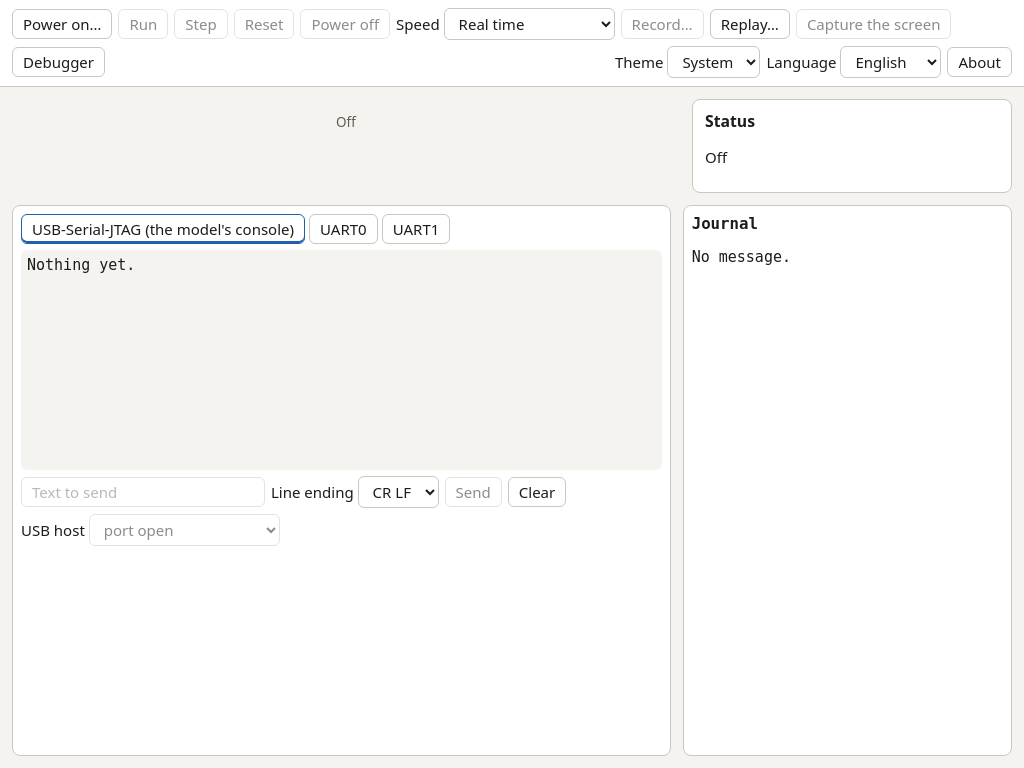
Test case: App › names a refused start in its own words and keeps the host's text as the detail
The image size is (1024, 768).
Click the button "Power on…" at (62, 24), box [12,9,112,39]
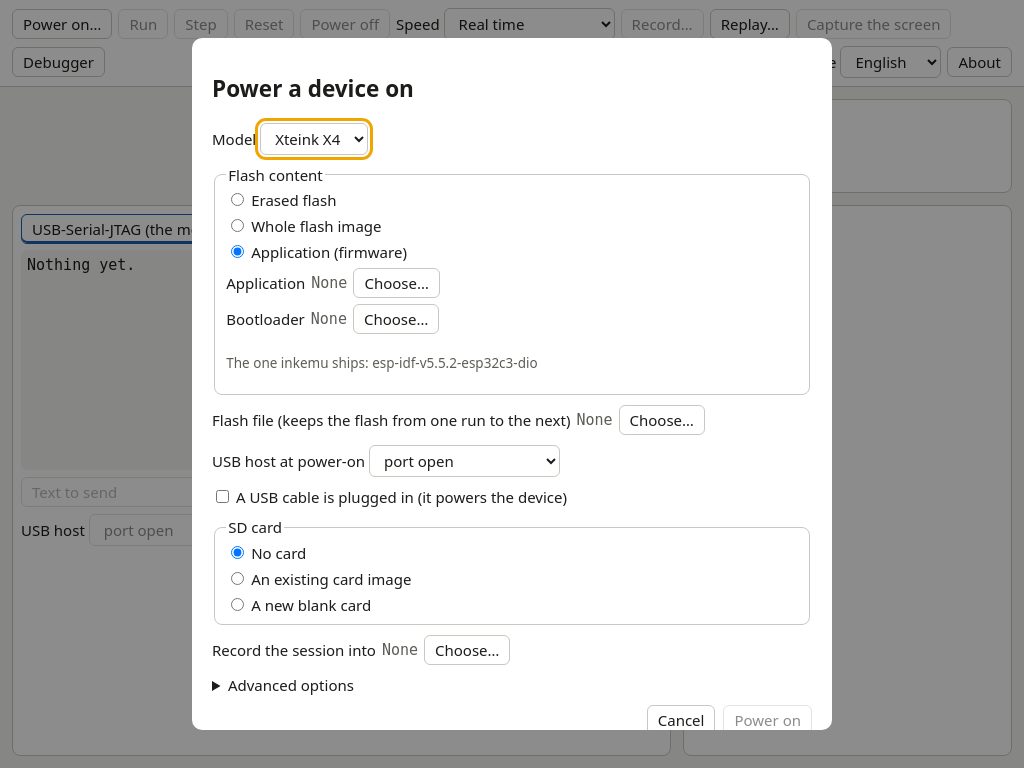
Click the 1st button "Choose…" at (397, 283), box [353,268,440,298]
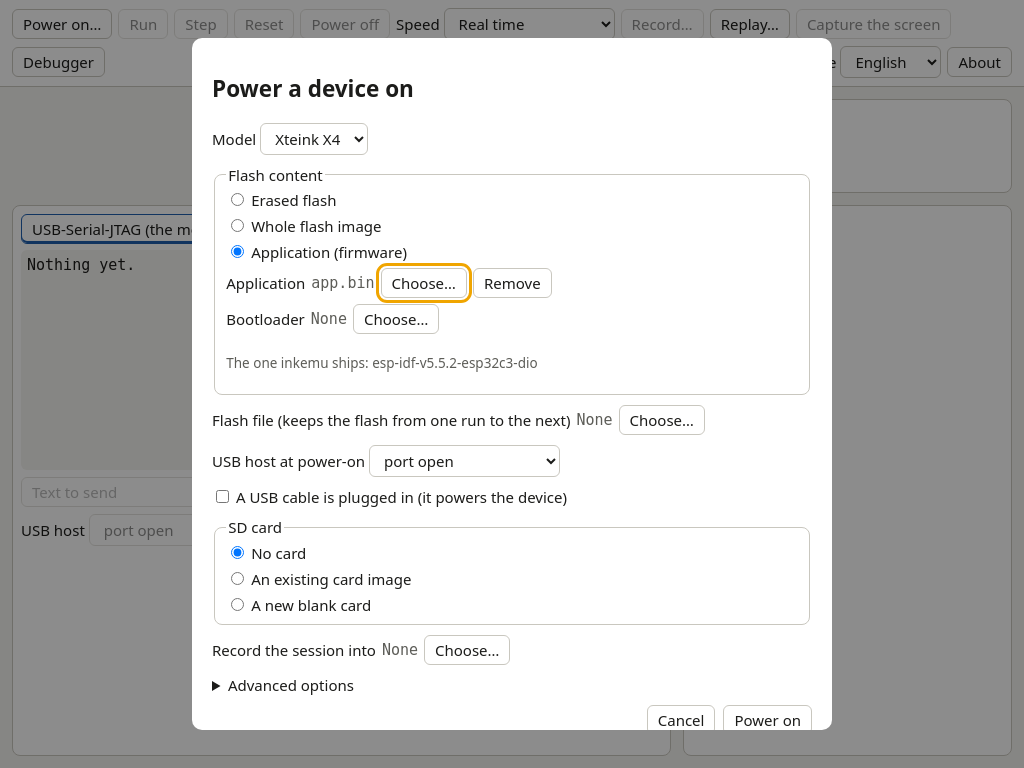
Click the button "Power on" at (768, 720), box [724,705,812,735]
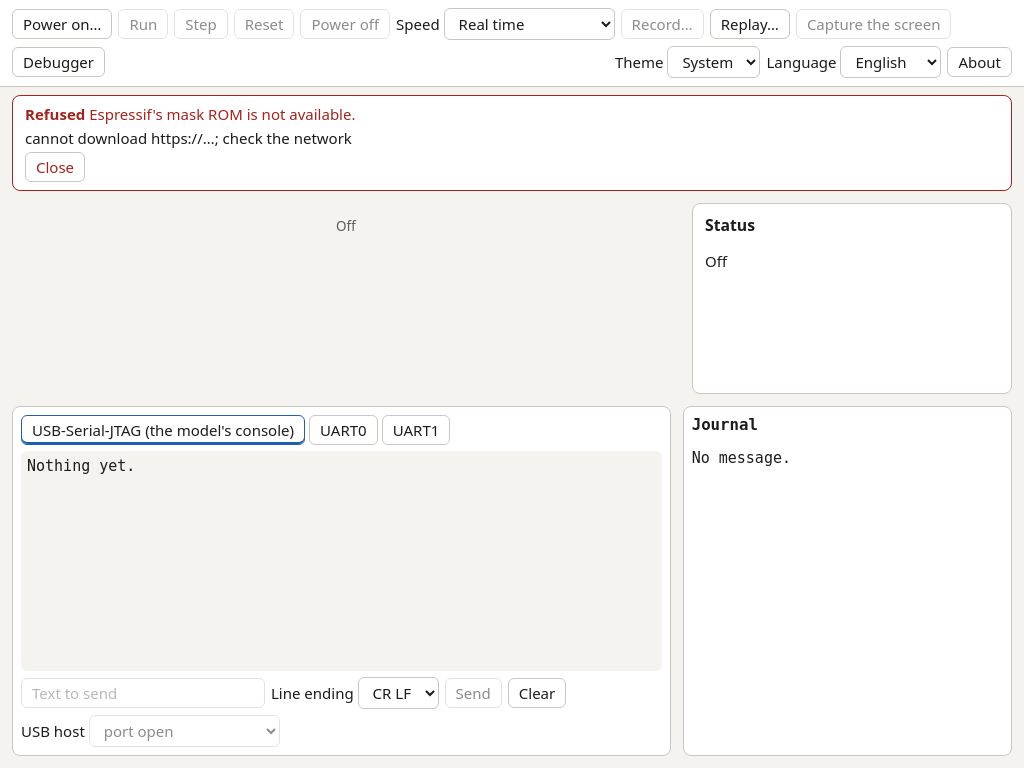
Result: the message shows "Espressif's mask ROM is not available." at [89,104,356,124]
Result: the message shows "check the network" at [25,128,352,148]
Click the button "Close" at (55, 167), box [25,152,85,182]
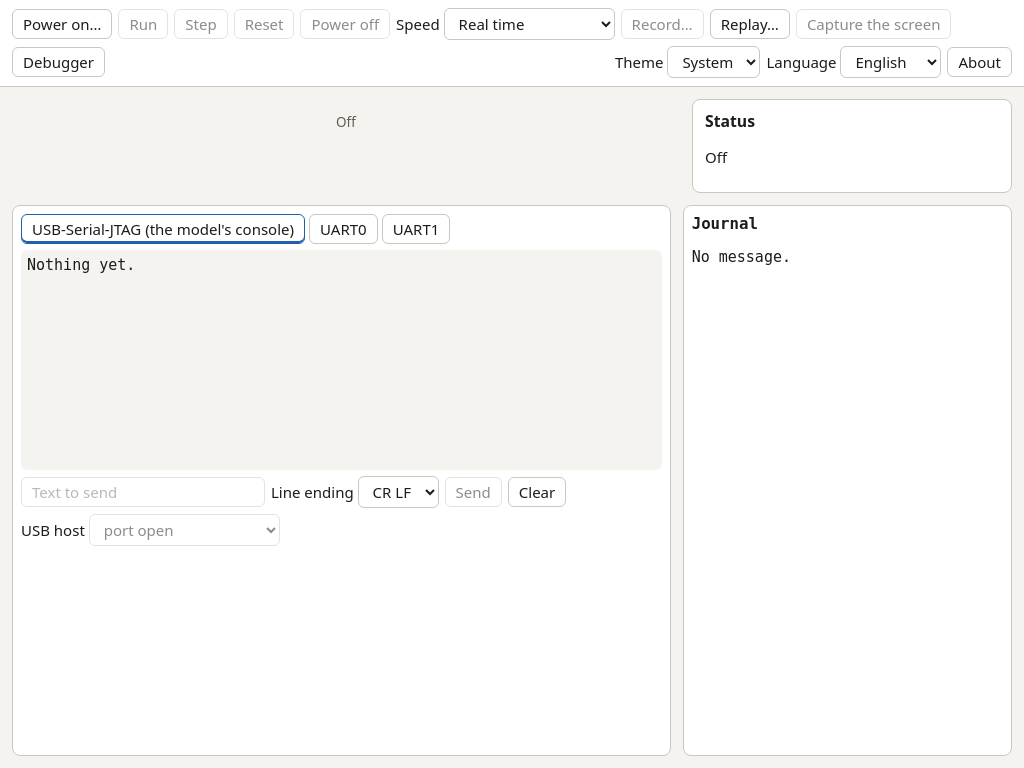
Expected: the button "Power on…" is enabled, [12,9,112,39]
Result: the message "Refused Espressif's mask ROM is not available. cannot download https://…; check" is gone
